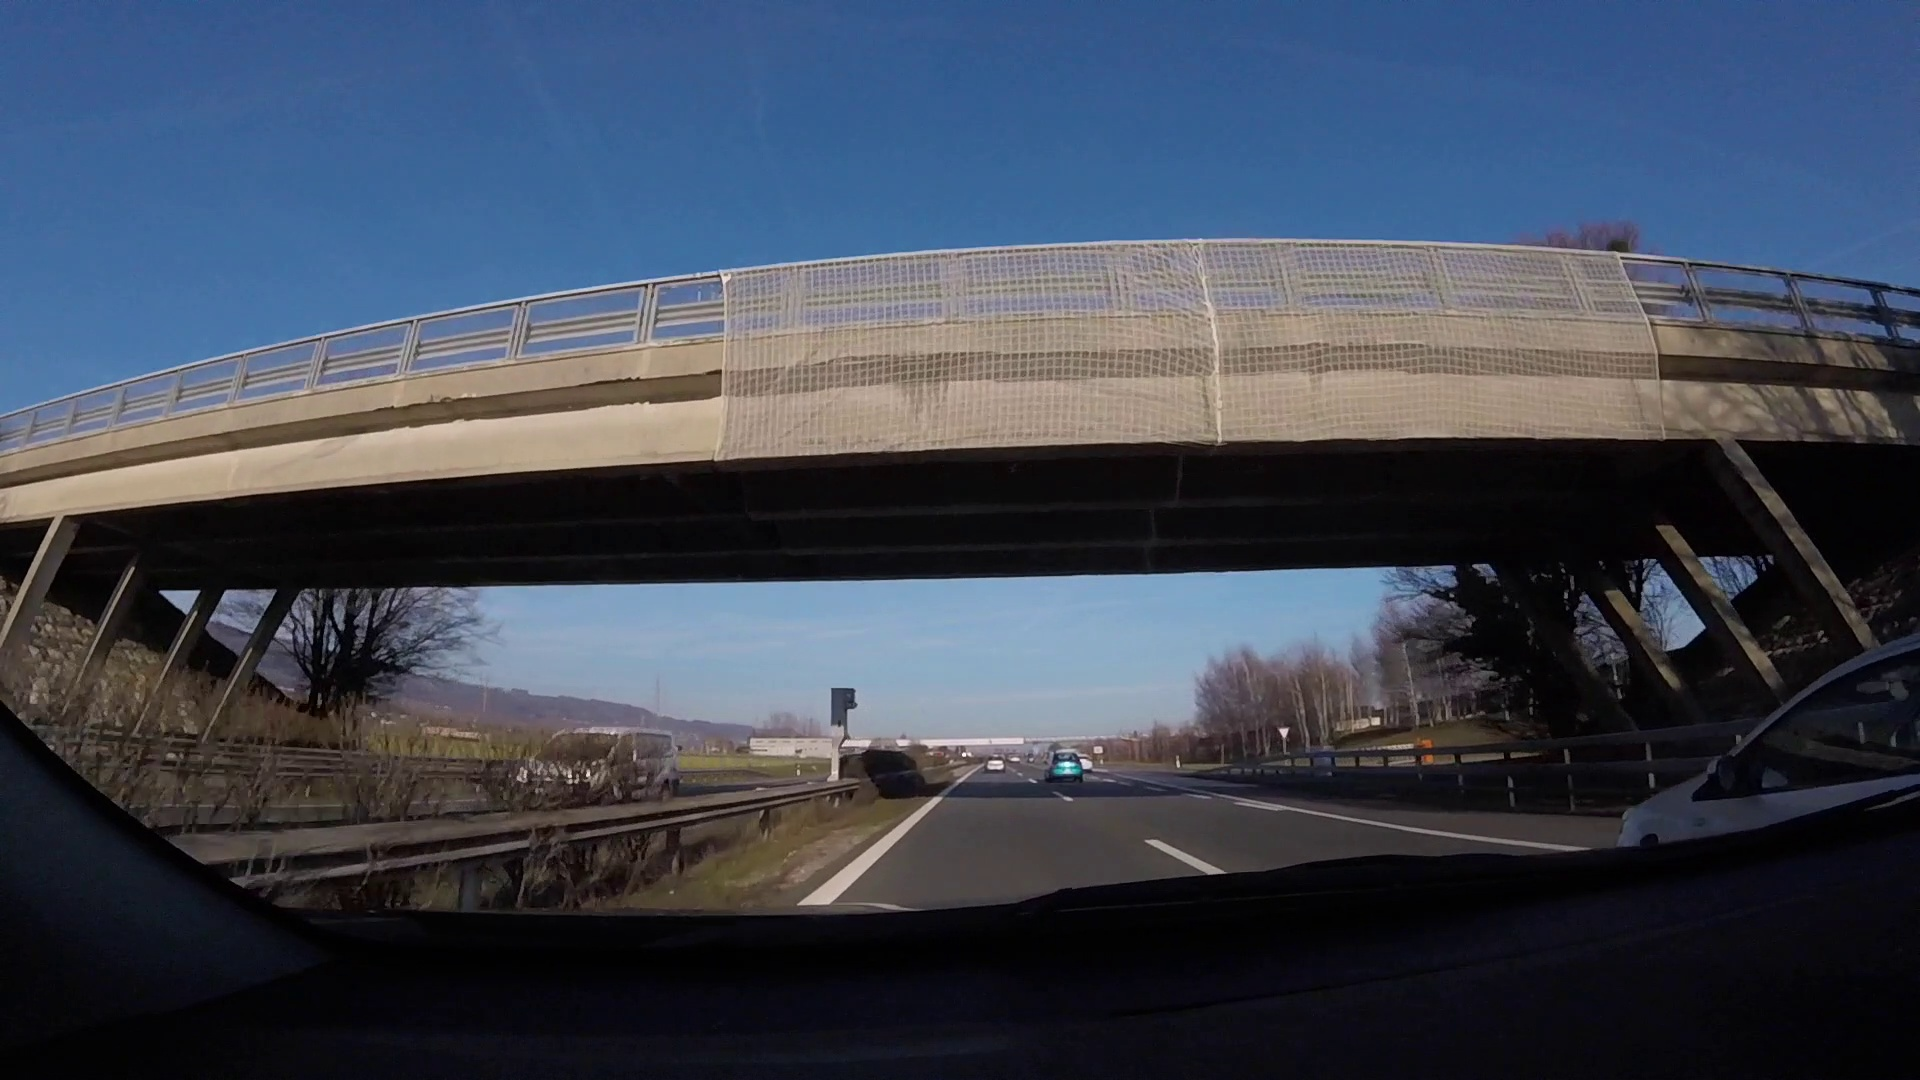radar: (828, 686, 858, 783)
